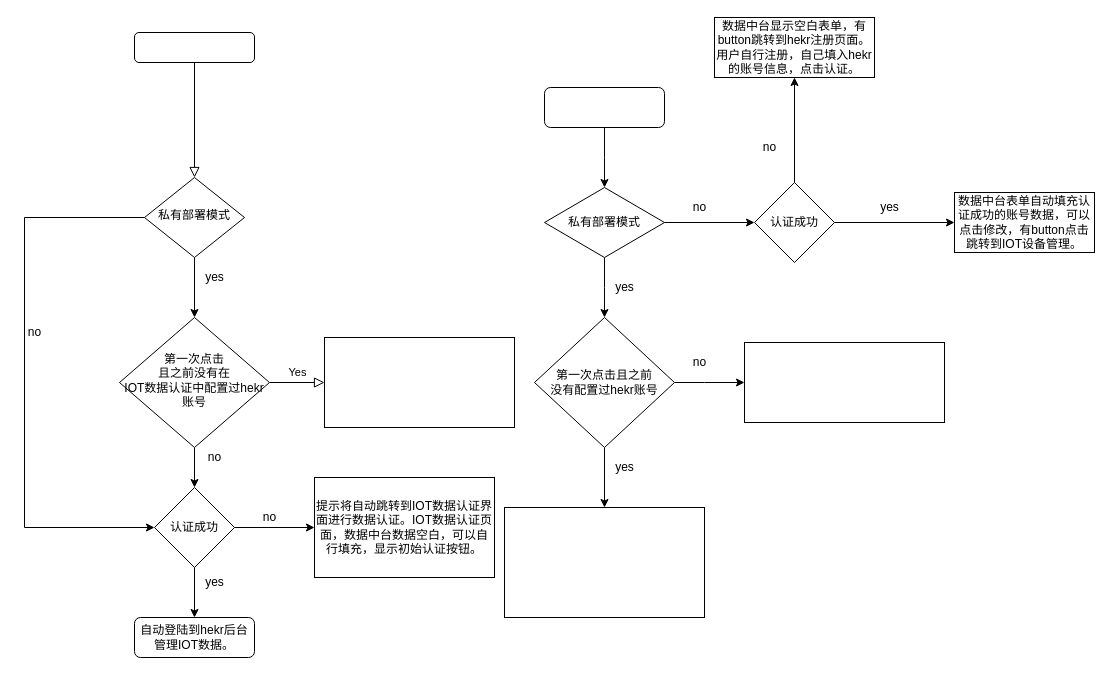
Some shapes in this 1112 by 675 pixel diagram are drawn without their labels. Each missing label, with the box of its shape:
后台注册hekr账号并自动登陆到hekr后台管理IOT数据。 IOT数据认证中自动配置好相应用户名密码。: (324, 336, 514, 428)
后台注册hekr账号并自动配置到IOT数据认证中，用户可以点击修改。 显示初始认证按钮，可以重置到初始认证的账号数据。: (504, 506, 704, 618)
已经配置好的hekr账号，可以点击修改，有button跳转到IOT设备管理。 私有部署：显示初始认证按钮，可以重置到初始认证的账号数据。: (744, 342, 944, 422)
点击IOT数据认证: (544, 86, 664, 128)
点击IOT设备管理模块: (134, 32, 254, 62)
